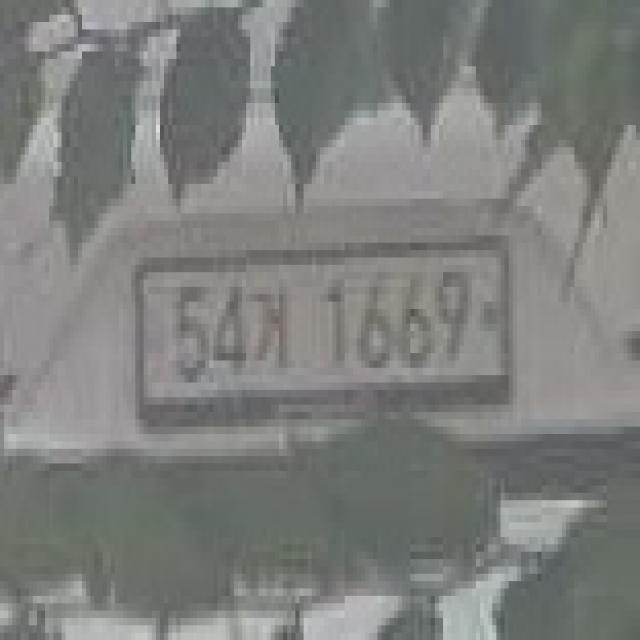1: (320, 258, 349, 382)
4: (205, 257, 246, 390)
5: (164, 272, 209, 390)
6: (390, 258, 439, 382), (349, 258, 398, 375)
9: (435, 250, 476, 375)
geo: (247, 272, 296, 375)
license_plate: (123, 228, 513, 434)
